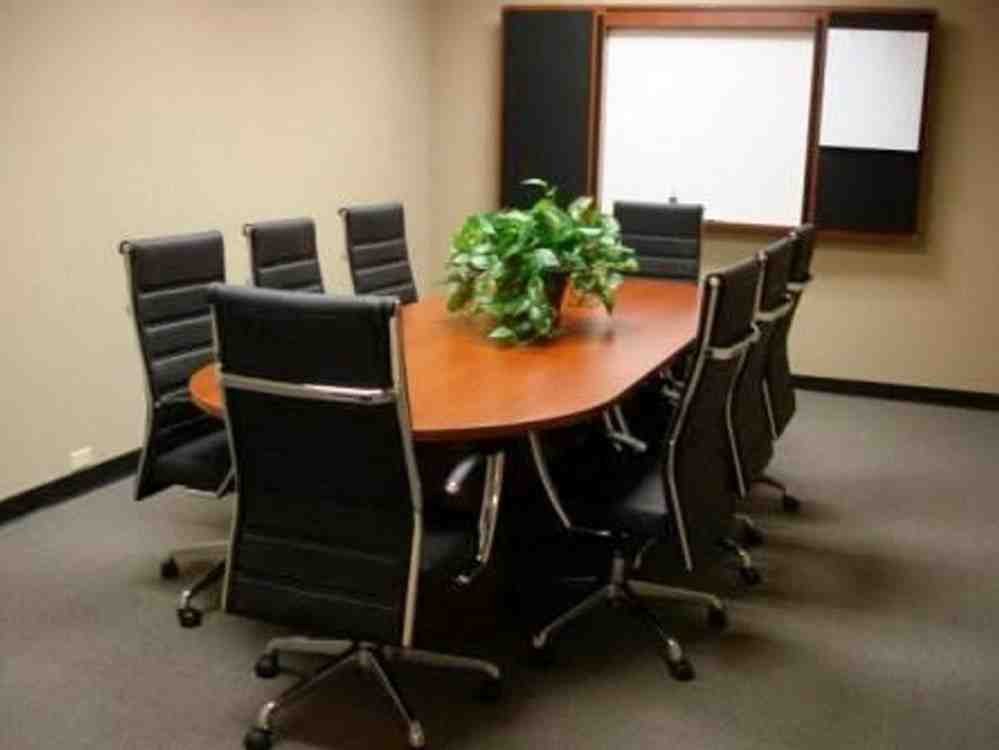conference_table: (188, 277, 705, 586)
